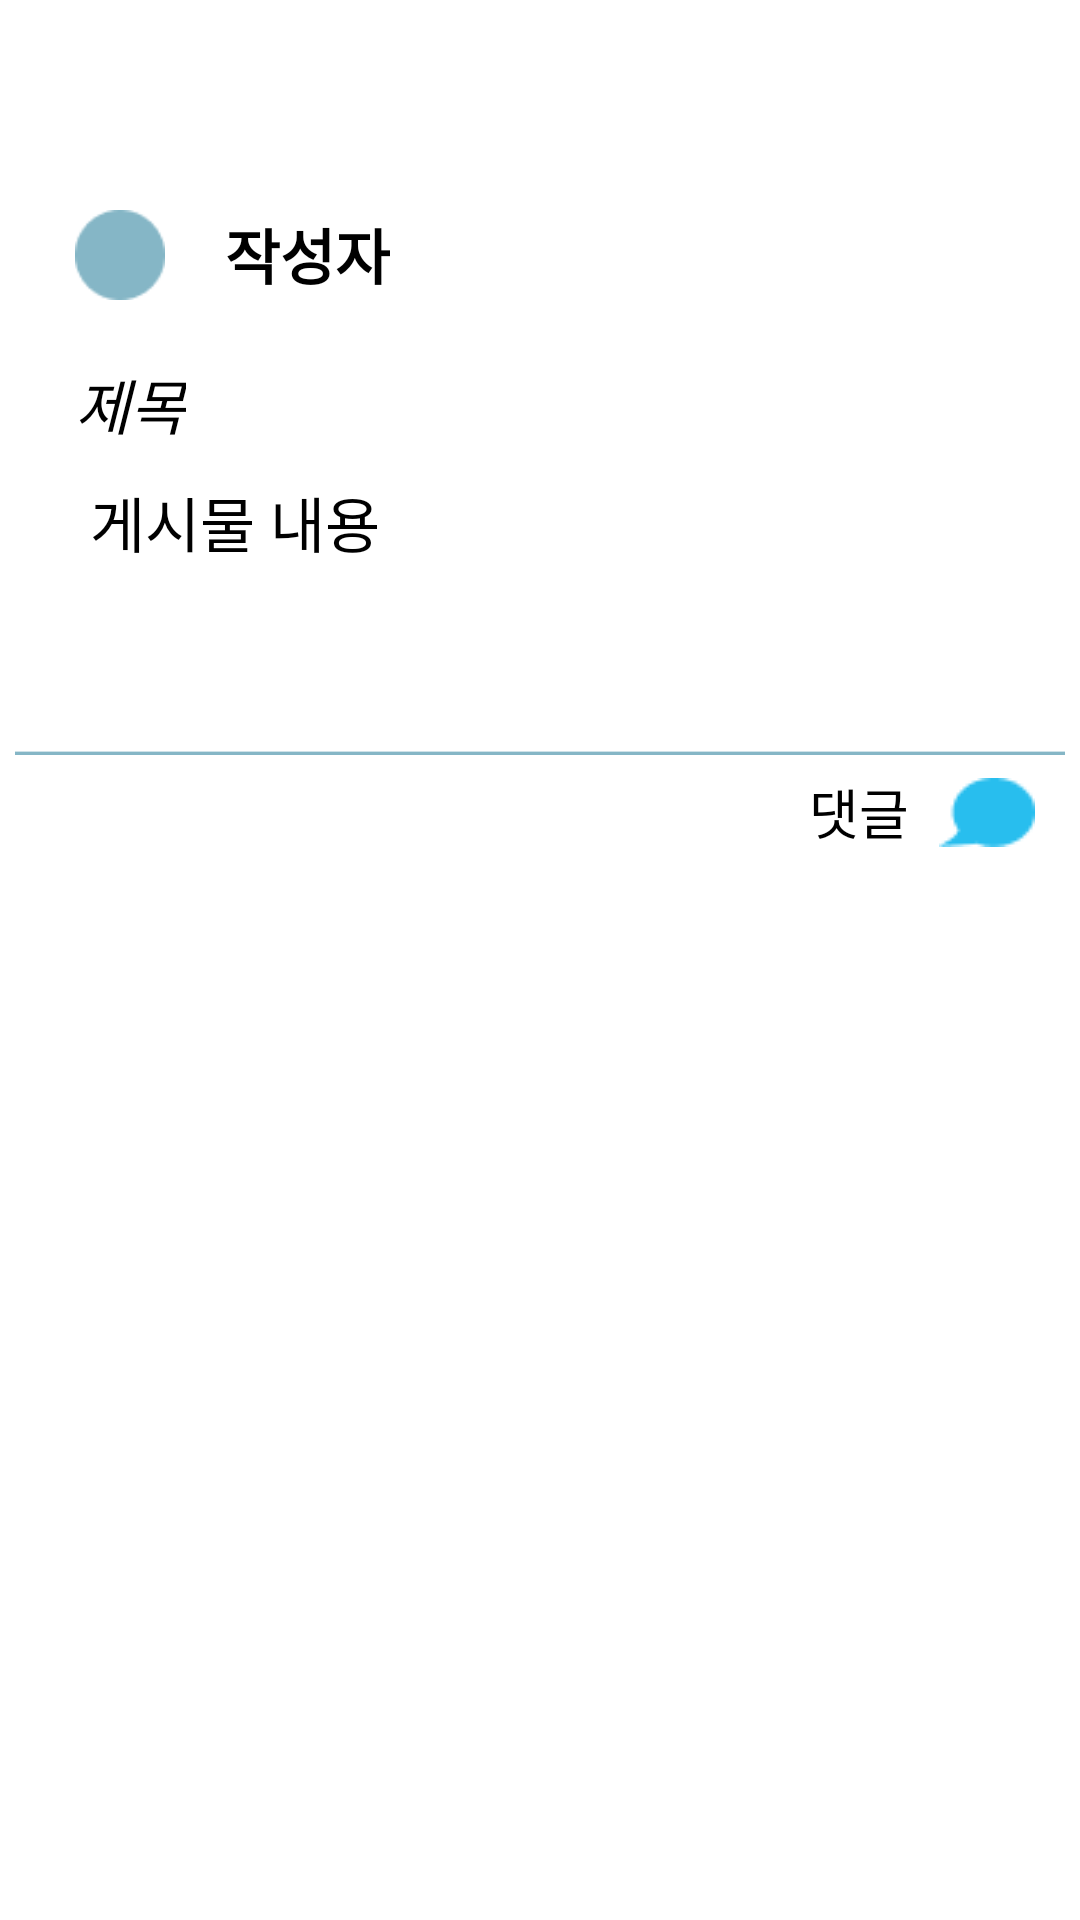

Point at icon controls on the screen. Image size 1080*1920, points as (x=x, y=y).
chat: (x=987, y=812)
